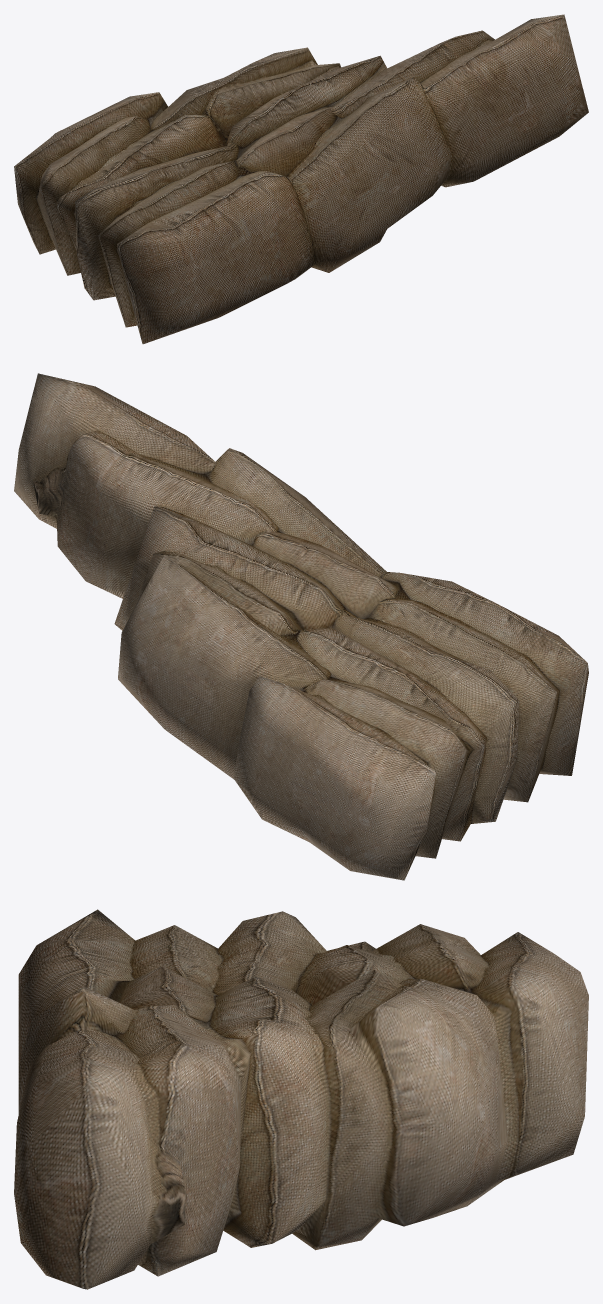
3 renders of one model, top to bottom at view 1: azimuth 30°, elevation 25°; view 2: azimuth 150°, elevation 25°; view 3: azimuth 270°, elevation 25°, orthographic. The views are drawn at different scales.
Parts seen in each view (by area): view 1: shabao_003; view 2: shabao_003; view 3: shabao_003.
Boxes of the visible parts, left/top/right/bottom form: shabao_003: left=14, top=14, right=588, bottom=344; shabao_003: left=14, top=373, right=588, bottom=880; shabao_003: left=14, top=909, right=588, bottom=1289.
Bounding box in the file's own units: 479 × 228 × 275.
